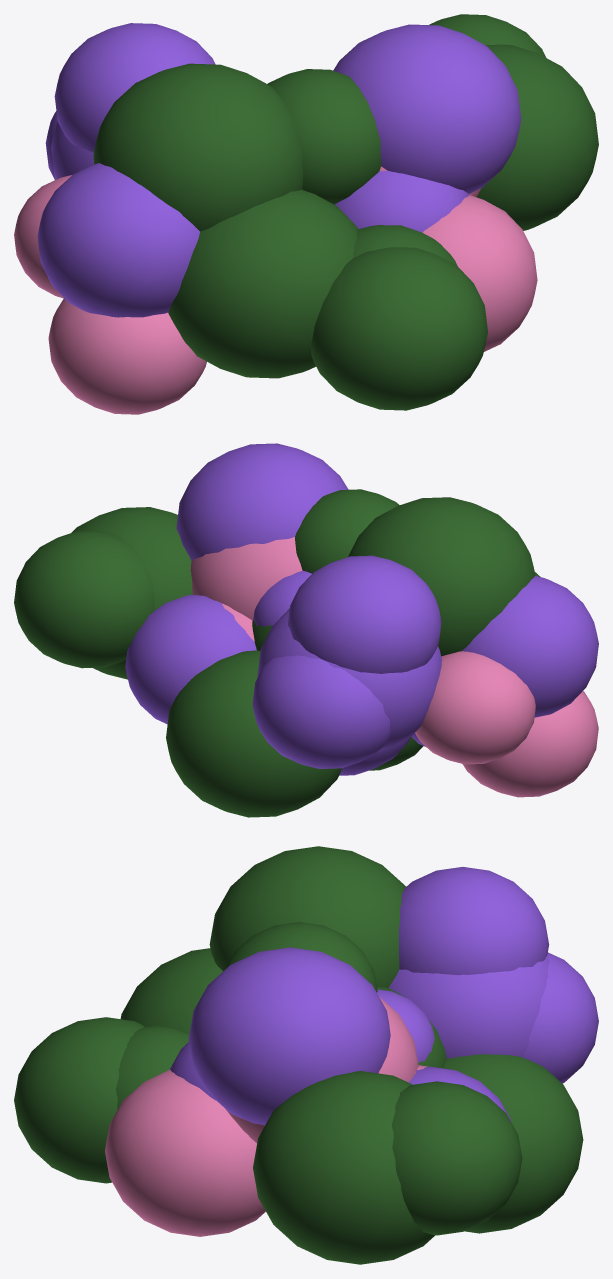
Rendered from buisson_toundra_2.glb.
3 renders of one model, top to bottom at view 1: azimuth 30°, elevation 25°; view 2: azimuth 150°, elevation 25°; view 3: azimuth 270°, elevation 25°, orthographic. The views are drawn at different scales.
Parts seen in each view (by area): view 1: bruyere_feuille_sombre.002, bruyere_violet.002, bruyere_rose.002; view 2: bruyere_violet.002, bruyere_feuille_sombre.002, bruyere_rose.002; view 3: bruyere_feuille_sombre.002, bruyere_violet.002, bruyere_rose.002.
Boxes of the visible parts, <box> form: bruyere_feuille_sombre.002: <box>93,14,598,410</box>; bruyere_violet.002: <box>37,23,521,317</box>; bruyere_rose.002: <box>14,166,537,414</box>; bruyere_violet.002: <box>125,443,598,775</box>; bruyere_feuille_sombre.002: <box>14,489,540,817</box>; bruyere_rose.002: <box>190,537,598,797</box>; bruyere_feuille_sombre.002: <box>14,846,583,1264</box>; bruyere_violet.002: <box>170,867,598,1125</box>; bruyere_rose.002: <box>105,996,427,1236</box>.
Size of the model in its own units: 0.5033 by 0.2606 by 0.4512.
